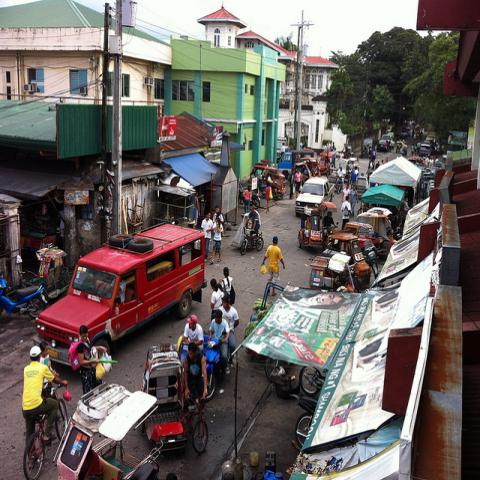car: (326, 233, 372, 286), (261, 168, 284, 198), (377, 134, 396, 152), (363, 139, 375, 159), (419, 143, 431, 157), (429, 134, 437, 144), (422, 139, 432, 145), (402, 130, 408, 136)
motorcycle: (0, 269, 49, 318), (204, 337, 223, 402), (333, 177, 341, 197), (368, 160, 374, 170)
truck: (32, 220, 207, 369), (294, 176, 336, 216), (277, 152, 294, 179)
